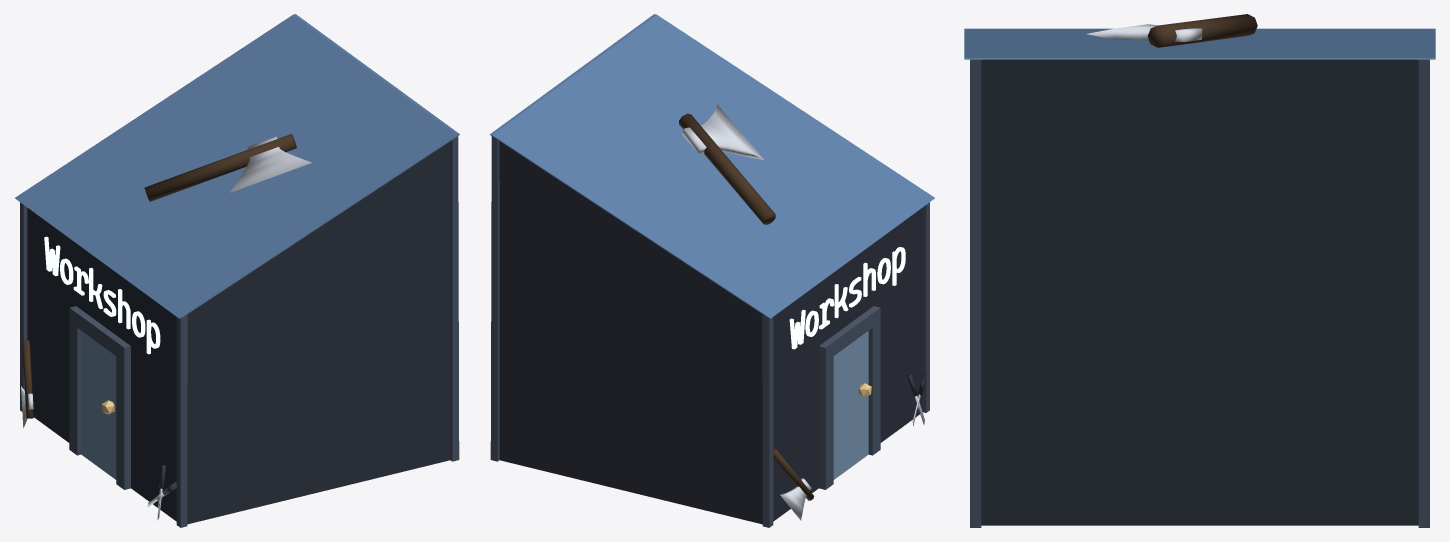
File: Workshop.fbx
3 views of the same model, side by side, from view 1: azimuth 30°, elevation 25°; view 2: azimuth 150°, elevation 25°; view 3: azimuth 270°, elevation 25° (orthographic). The views are drawn at different scales.
Parts seen in each view (by area): view 1: Workshop, Workshop Roof, Workshop Pillars, Workshop Door Frame, Workshop Door, Workshop Axe Sign, Workshop Sign, Workshop Axe; view 2: Workshop, Workshop Roof, Workshop Pillars, Workshop Door Frame, Workshop Door, Workshop Axe Sign, Workshop Sign, Workshop Axe; view 3: Workshop, Workshop Roof, Workshop Pillars, Workshop Axe Sign.
Boxes of the visible parts, x1=… form: Workshop: x1=27, y1=141, x2=450, y2=524; Workshop Roof: x1=15, y1=14, x2=459, y2=318; Workshop Pillars: x1=20, y1=136, x2=459, y2=527; Workshop Door Frame: x1=69, y1=306, x2=130, y2=489; Workshop Door: x1=81, y1=331, x2=116, y2=479; Workshop Axe Sign: x1=144, y1=134, x2=311, y2=201; Workshop Sign: x1=44, y1=236, x2=160, y2=354; Workshop Axe: x1=21, y1=340, x2=33, y2=428; Workshop: x1=499, y1=141, x2=922, y2=524; Workshop Roof: x1=490, y1=14, x2=934, y2=318; Workshop Pillars: x1=490, y1=136, x2=929, y2=527; Workshop Door Frame: x1=819, y1=306, x2=880, y2=489; Workshop Door: x1=833, y1=331, x2=868, y2=479; Workshop Axe Sign: x1=679, y1=104, x2=775, y2=224; Workshop Sign: x1=789, y1=247, x2=905, y2=349; Workshop Axe: x1=773, y1=448, x2=813, y2=520; Workshop: x1=981, y1=59, x2=1418, y2=525; Workshop Roof: x1=964, y1=28, x2=1435, y2=59; Workshop Pillars: x1=970, y1=59, x2=1429, y2=527; Workshop Axe Sign: x1=1086, y1=14, x2=1257, y2=47.
Size of the model in its own units: 109 by 116 by 105.
